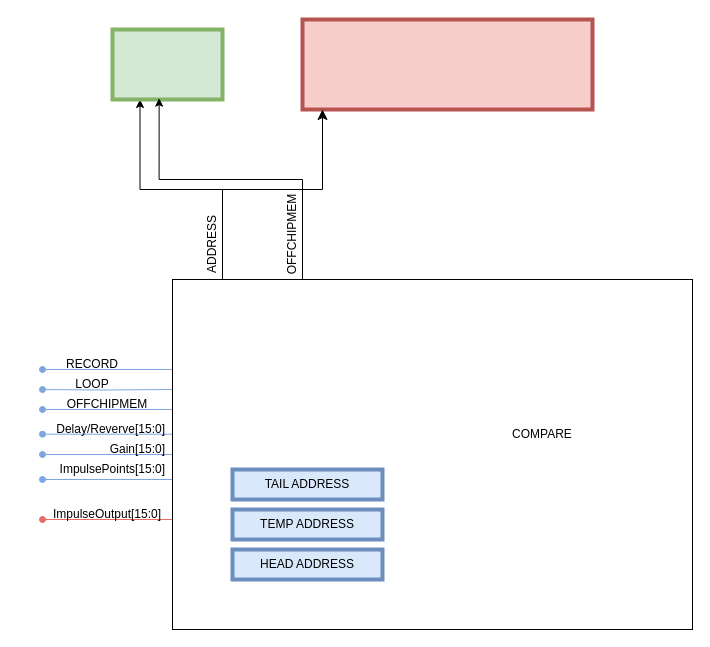
Image size: 710x647. Some labels were removed from this diagram. Here are the shapes that lost their labels. From the top down, the centre of each, then its label:
point 167,64: SPI Control
point 447,64: SRAM
